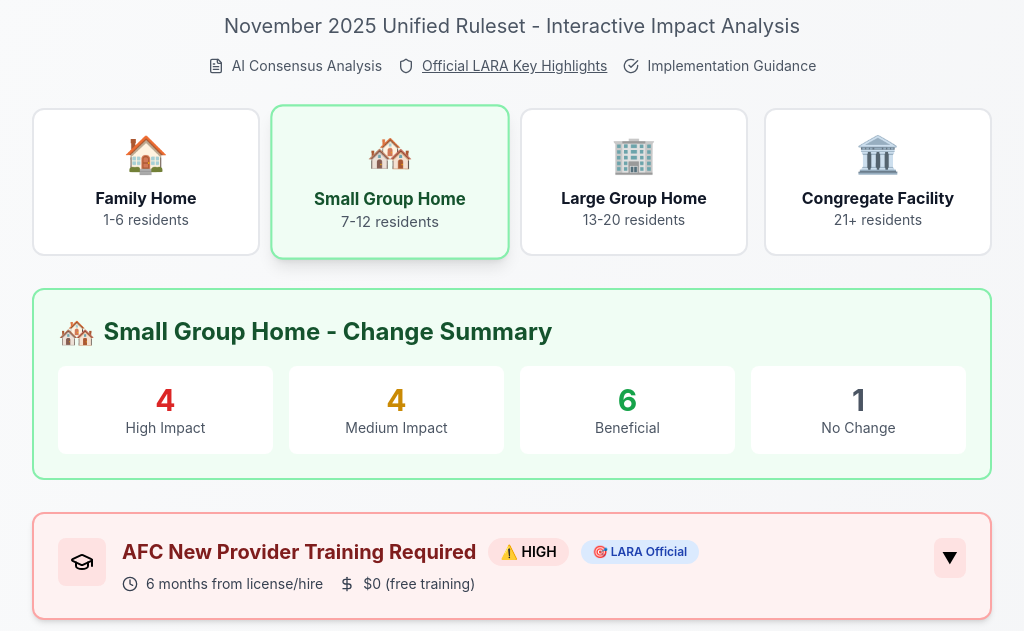
Test: AFCRulesInfographic › Visual Comparison › shows before/after visual when card is expanded
Click the button "AFC New Provider Training Required": (512, 566) [34,514,990,618]
(page scrolled)
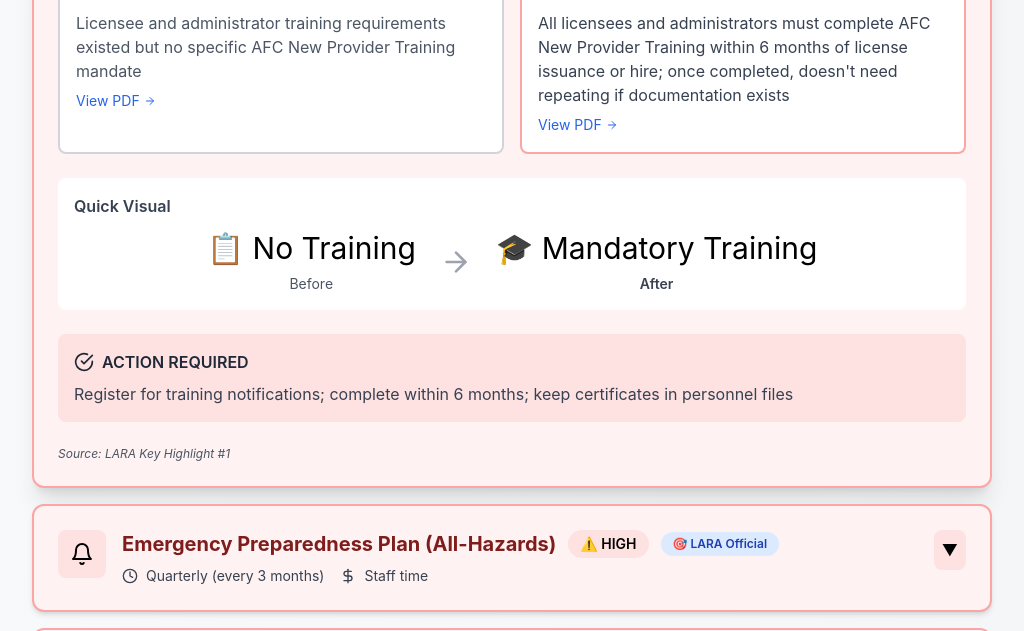
Now the text "Quick Visual" is shown, box [74,196,171,216]
Now the text "Before" is shown, box [289,275,333,292]
Now the text "After" is shown, box [640,275,673,292]
